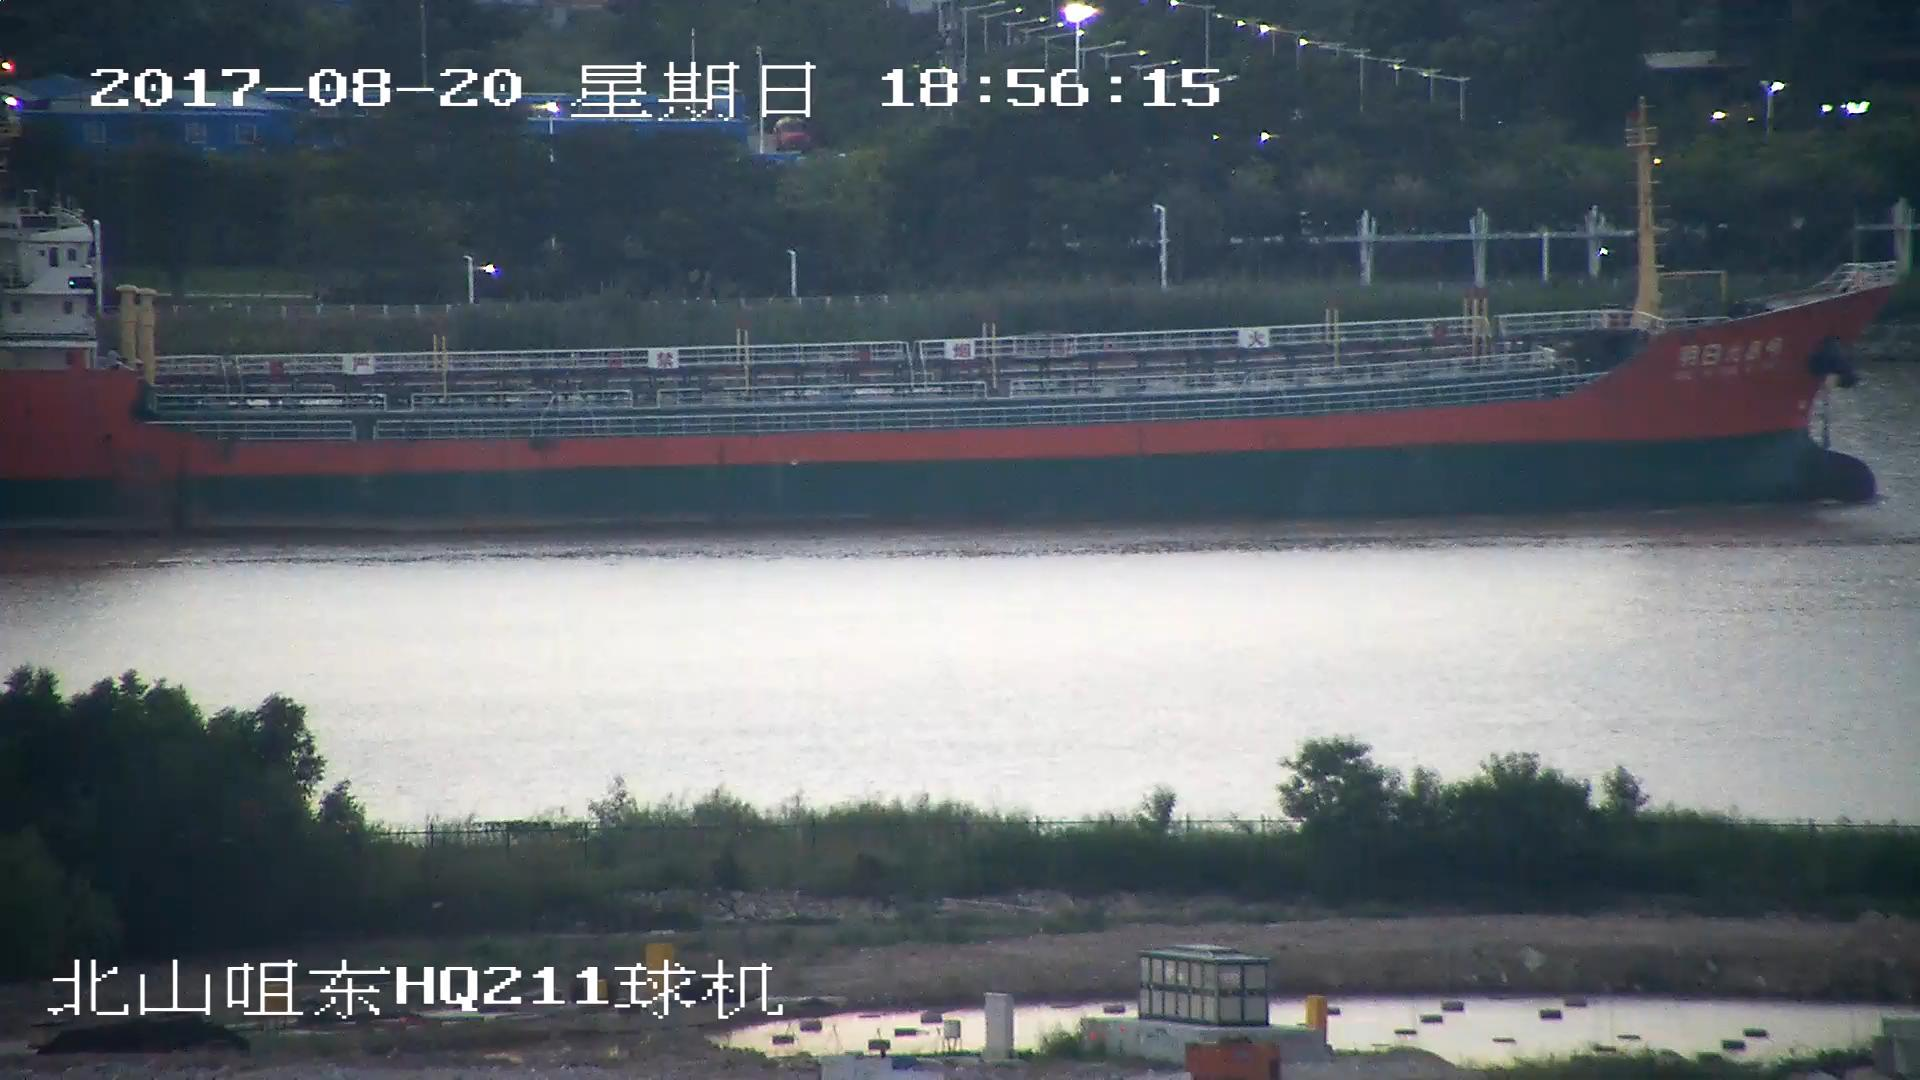Ship: (3, 117, 1908, 517)
